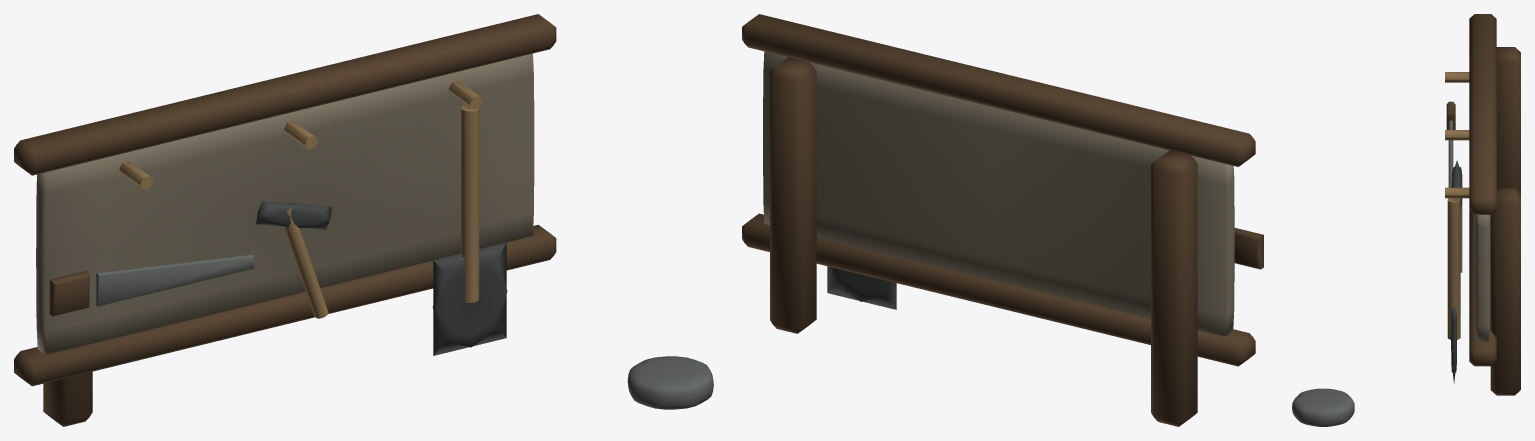
Rendered from tool_peg_a.glb.
3 renders of one model, left to right at view 1: azimuth 30°, elevation 25°; view 2: azimuth 150°, elevation 25°; view 3: azimuth 270°, elevation 25°, orthographic. The views are drawn at different scales.
Parts seen in each view (by area): view 1: Surface; view 2: Surface; view 3: Surface.
Boxes of the visible parts, x1,y1,x2,y2 form: Surface: (14,14,713,426); Surface: (742,14,1263,426); Surface: (1292,14,1520,426).
Size of the model in its own units: 3.16 by 1.57 by 1.51.
